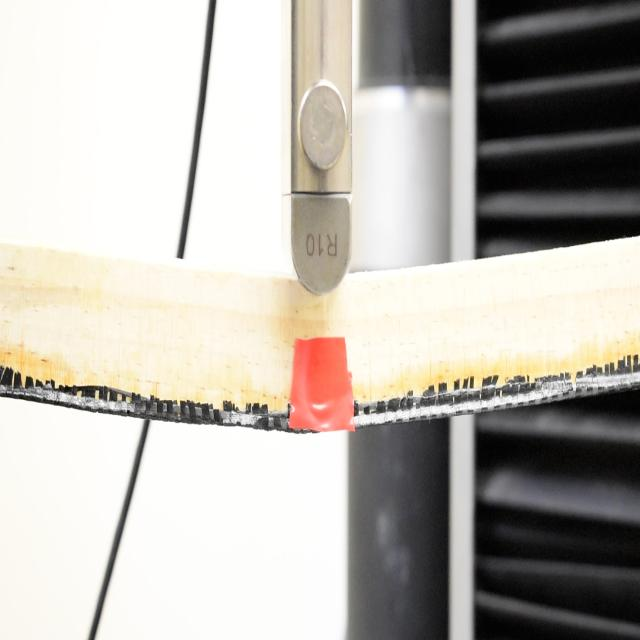wood: (1, 254, 635, 438)
